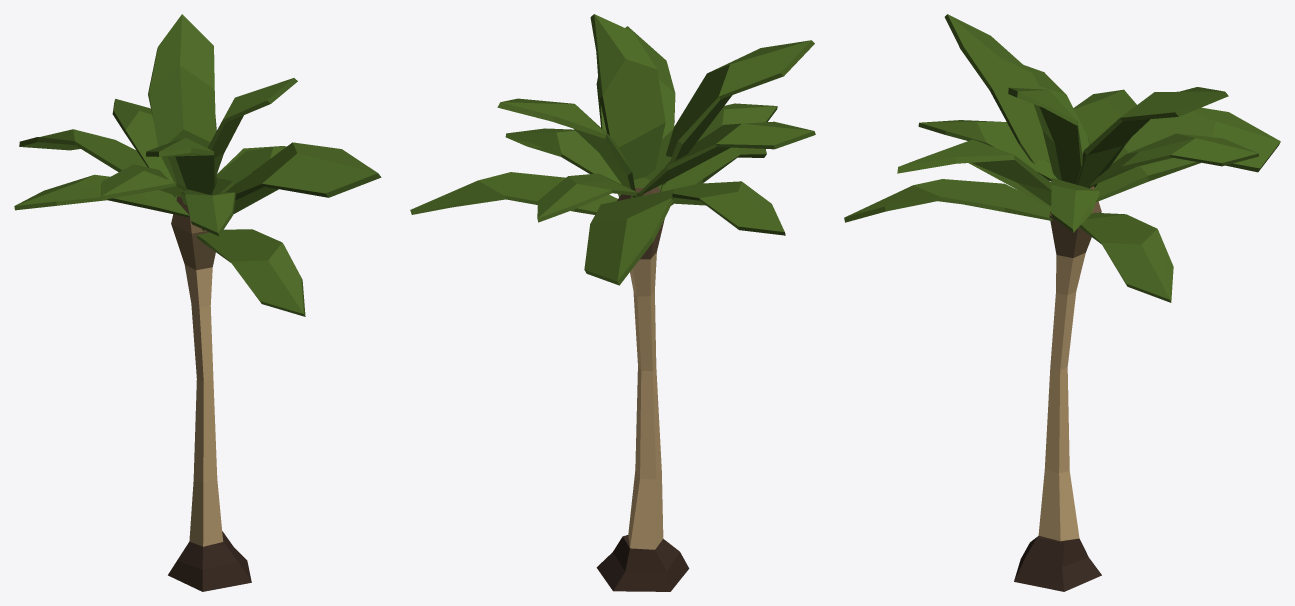
Rendered from island_palm_1.fbx.
3 renders of one model, left to right at view 1: azimuth 30°, elevation 25°; view 2: azimuth 150°, elevation 25°; view 3: azimuth 270°, elevation 25°, orthographic. The views are drawn at different scales.
Visible parts, largest first — view 1: Cube.006; view 2: Cube.006; view 3: Cube.006.
Part boxes in pixels (x1,y1,x2,y2): Cube.006: [14, 14, 381, 591]; Cube.006: [410, 14, 815, 591]; Cube.006: [844, 14, 1280, 591].
Size of the model in its own units: 4.63 by 6.68 by 5.15.
